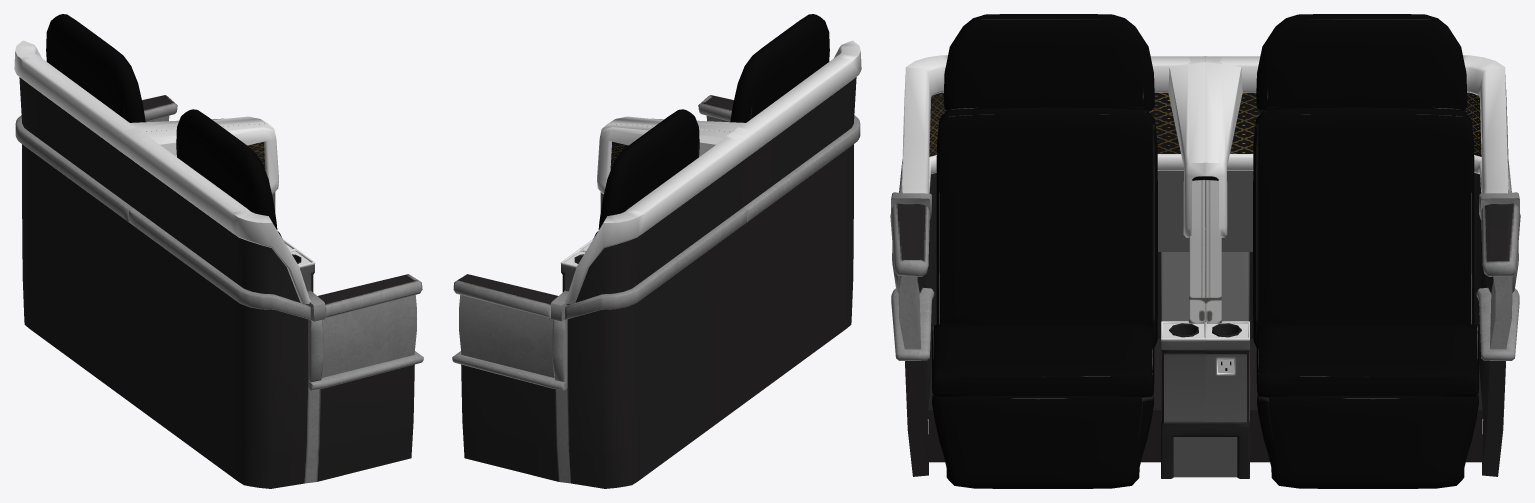
File: airline_plane_seat_game_ready.glb
3 renders of one model, left to right at view 1: azimuth 30°, elevation 25°; view 2: azimuth 150°, elevation 25°; view 3: azimuth 270°, elevation 25°, orthographic. The views are drawn at different scales.
Parts seen in each view (by area): view 1: Cube.005, Cube; view 2: Cube.005, Cube; view 3: Cube, Cube.005.
Part boxes in pixels (x1,y1,x2,y2): Cube.005: (14, 40, 423, 488); Cube: (46, 14, 282, 238); Cube.005: (452, 40, 861, 488); Cube: (593, 14, 829, 238); Cube: (932, 14, 1478, 488); Cube.005: (890, 55, 1520, 478).
Size of the model in its own units: 5.64 by 9.66 by 14.13.
2 materials, 2 textured.
